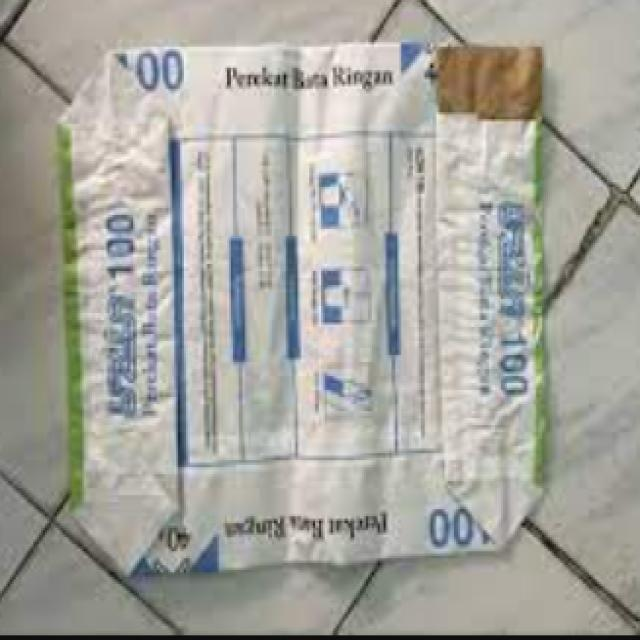KantongSemen: (55, 39, 550, 574)
